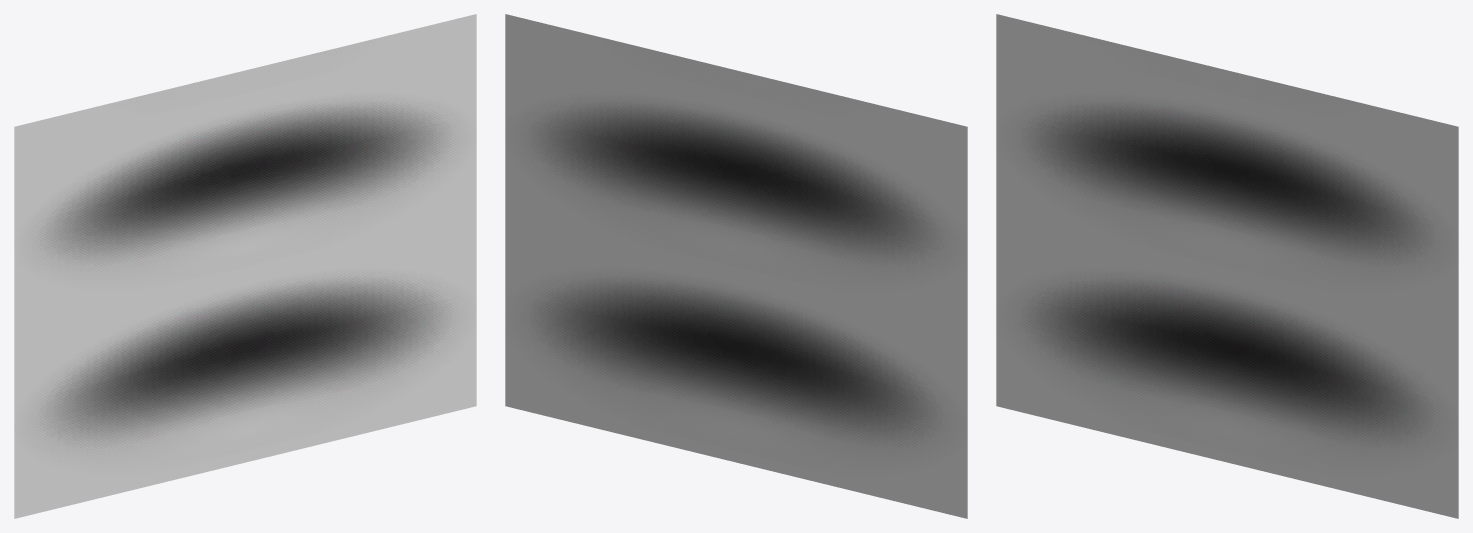
Rendered from sky.dae.
The picture shows the model from 3 angles, left to right: view 1: azimuth 30°, elevation 25°; view 2: azimuth 150°, elevation 25°; view 3: azimuth 330°, elevation 25°; orthographic projection.
Parts seen in each view (by area): view 1: sky; view 2: sky; view 3: sky.
Boxes of the visible parts, box(x1,y1,x2,y2) form: sky: box(14, 14, 476, 518); sky: box(505, 14, 967, 518); sky: box(996, 14, 1458, 518).
Size of the model in its own units: 1613 by 1308 by 0.
1 material, 1 textured.
